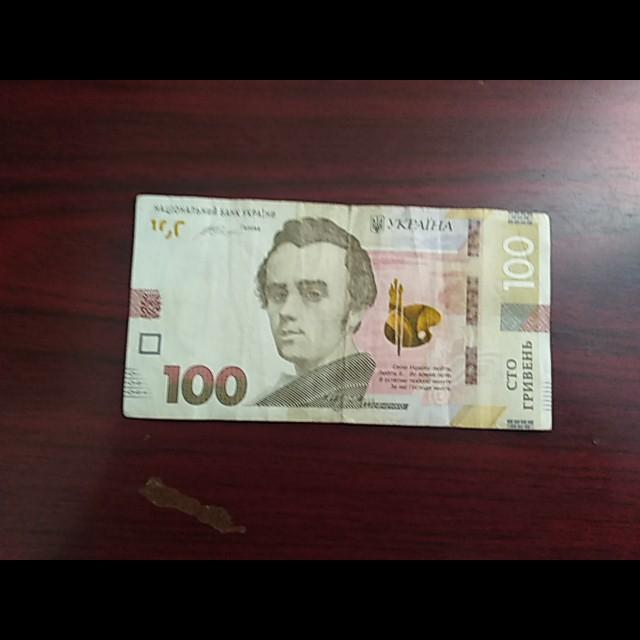100uah: (122, 194, 553, 431)
